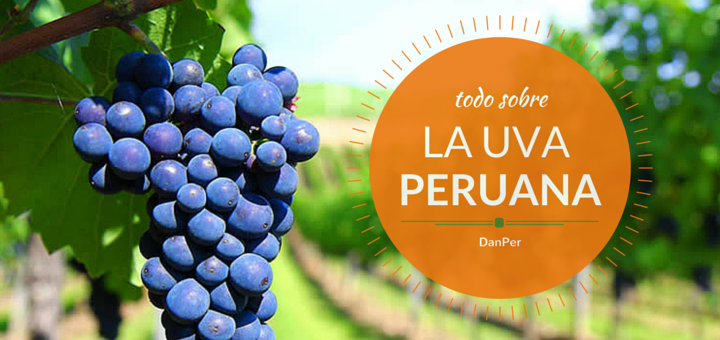Black grapes: (74, 47, 321, 339)
